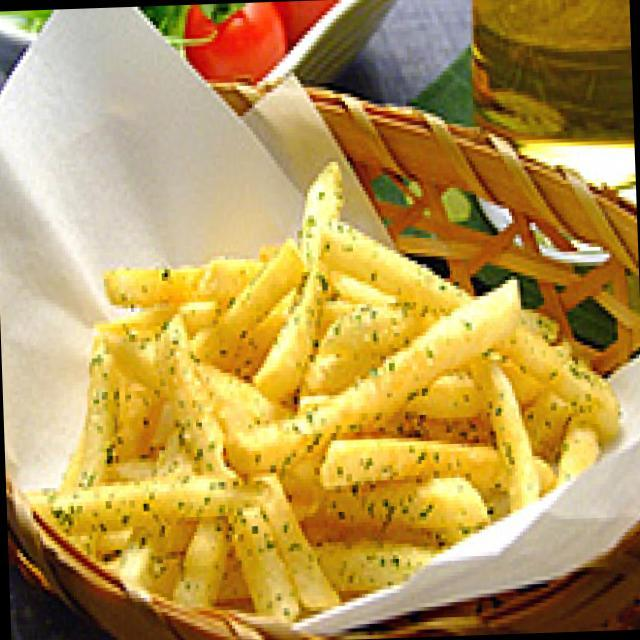French Fries: (35, 242, 578, 624)
